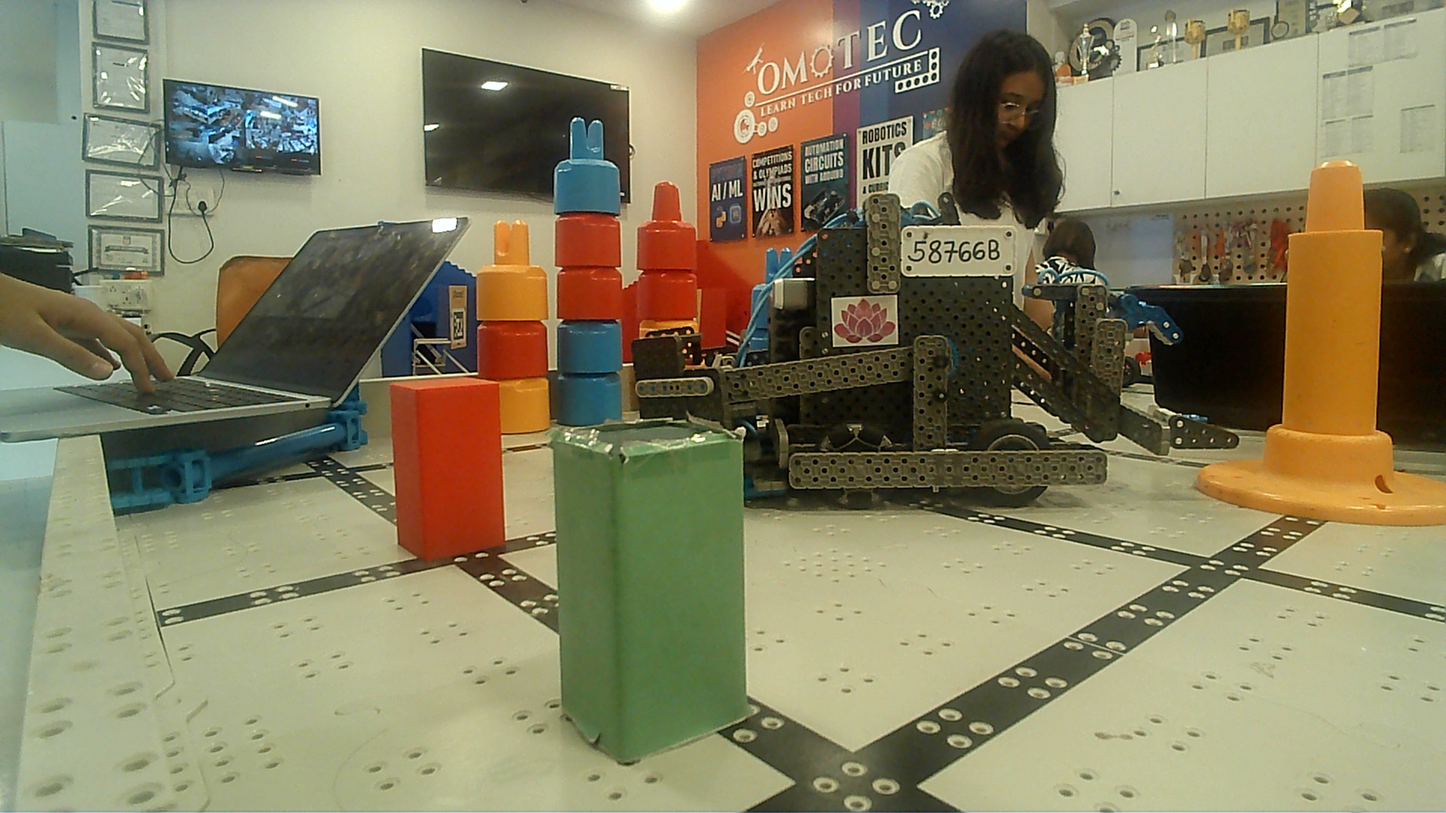green: (553, 413, 751, 772)
